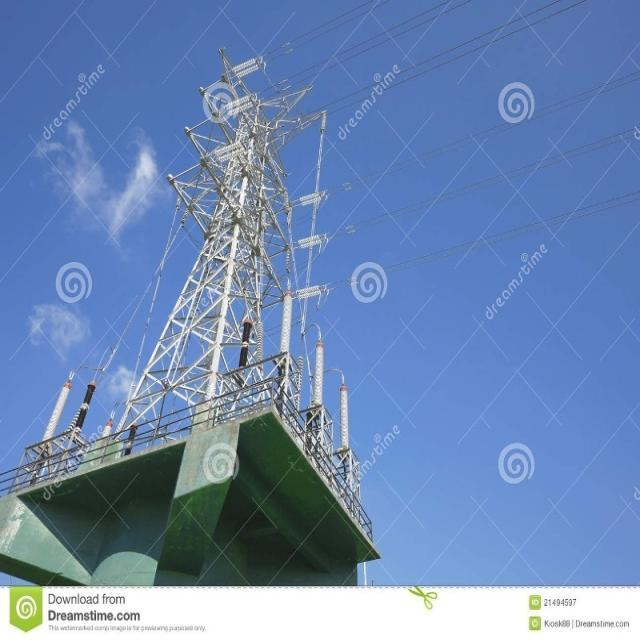non-critical vegetation: (172, 38, 286, 378)
